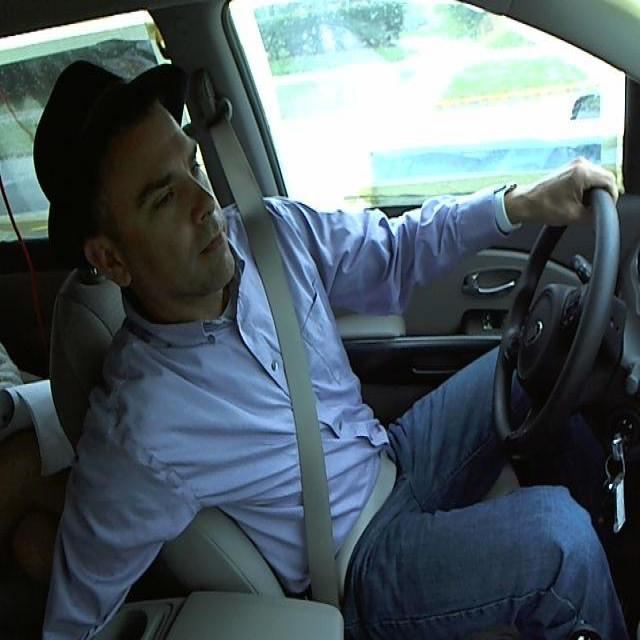seatbelt: (253, 234, 334, 582)
